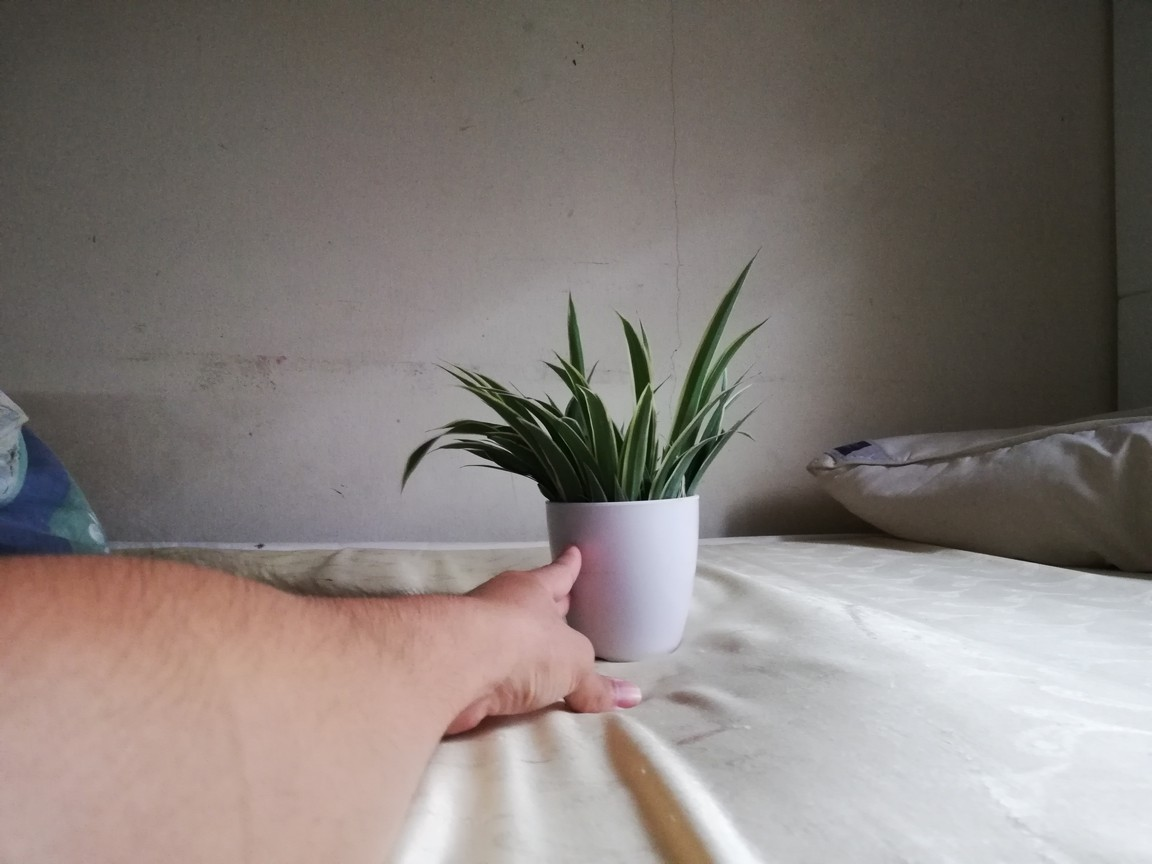daun: (714, 242, 766, 316), (716, 311, 767, 359), (575, 381, 612, 433), (516, 415, 558, 455), (400, 436, 429, 493), (629, 381, 653, 448), (614, 303, 637, 372), (566, 285, 584, 368), (737, 396, 771, 431), (581, 459, 607, 504), (458, 461, 510, 481), (473, 368, 509, 396), (431, 360, 468, 387), (441, 353, 475, 381), (637, 310, 654, 363), (726, 382, 757, 408), (421, 418, 468, 435), (425, 442, 481, 456), (538, 358, 570, 380), (551, 348, 576, 373), (652, 372, 675, 395), (728, 431, 761, 444), (542, 389, 559, 413), (588, 358, 603, 384), (451, 435, 480, 443), (619, 418, 627, 437)
